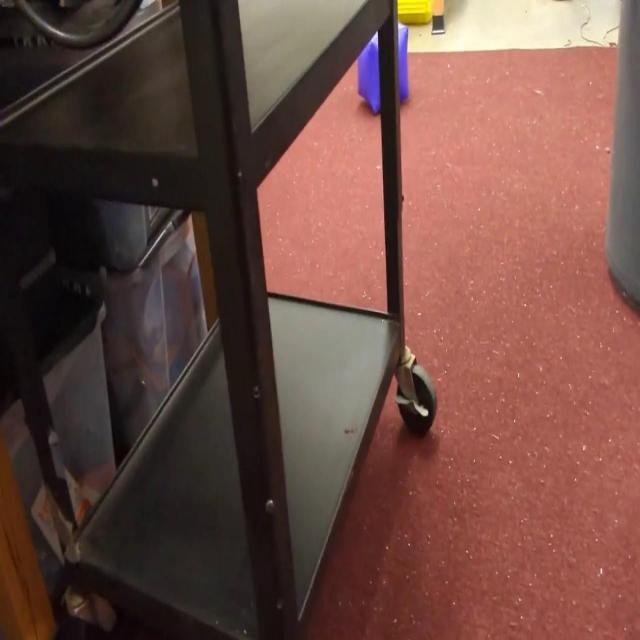frc_cube: (356, 20, 409, 114)
